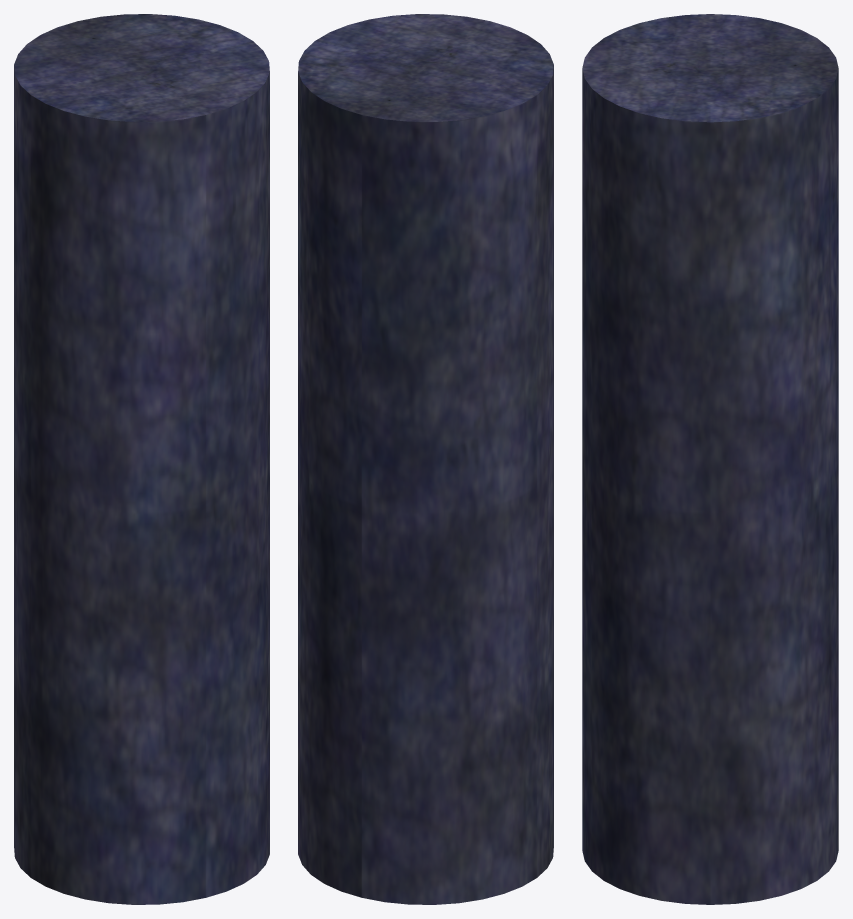
Rendered from SimplePillar-lapis.glb.
3 views of the same model, side by side, from view 1: azimuth 30°, elevation 25°; view 2: azimuth 150°, elevation 25°; view 3: azimuth 270°, elevation 25° (orthographic).
Visible parts, largest first — view 1: Pillar; view 2: Pillar; view 3: Pillar.
Part boxes in pixels (<box>): Pillar: <box>14,14,269,904</box>; Pillar: <box>298,14,553,904</box>; Pillar: <box>582,14,838,904</box>.
Size of the model in its own units: 0.8903 by 3 by 0.8903.
1 material, 1 textured.
